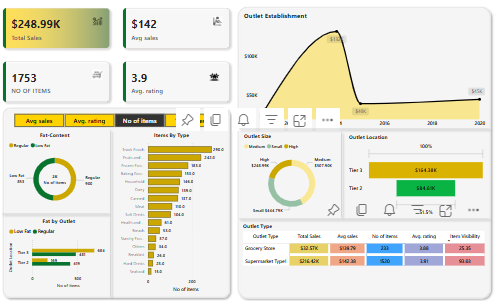

What the dashboard file says about the page in this screenshot:
{"tool":"powerbi","page":{"name":"Page 1","canvas":[1500,810],"ordinal":0},"visuals":[{"type":"shape","box":[28.3,26.7,211.7,753.3],"z":0},{"type":"textbox","box":[49.2,56.7,165.8,76.7],"z":1000},{"type":"textbox","box":[44.2,117.5,180,31.7],"z":2000},{"type":"cardVisual","fields":{"Data":["BlinkIT Grocery Data.TOTAL SALES","BlinkIT Grocery Data.AVG SALES","BlinkIT Grocery Data.NUMBER OF ITEMS","BlinkIT Grocery Data.AVERAGE RATING"]},"box":[231.8,26.4,602.7,271.8],"z":3000},{"type":"shape","box":[240,285.6,586.7,494.4],"z":4000},{"type":"slicer","fields":{"Values":["Metrics.Metrics"]},"box":[253.3,302.2,551.1,40],"z":5000},{"type":"donutChart","title":"Fat-Content","fields":{"Y":["BlinkIT Grocery Data.Avg sales"],"Category":["BlinkIT Grocery Data.Item Fat Content"]},"box":[260,352.2,238.9,196.7],"z":6000},{"type":"cardVisual","fields":{"Data":["BlinkIT Grocery Data.Avg sales"]},"box":[326.4,439.1,104.5,66.4],"z":7000},{"type":"clusteredBarChart","title":"Fat by Outlet","fields":{"Y":["BlinkIT Grocery Data.Avg sales"],"Category":["BlinkIT Grocery Data.Outlet Location Type"],"Series":["BlinkIT Grocery Data.Item Fat Content"]},"box":[260,567.8,258.9,184.4],"z":8000},{"type":"shape","box":[241.1,541.1,284.4,40],"z":9000},{"type":"shape","box":[472,342,93.3,432.7],"z":10000},{"type":"barChart","title":"Items By Type","fields":{"Y":["BlinkIT Grocery Data.Avg sales"],"Category":["BlinkIT Grocery Data.Item Type"]},"box":[526.4,351.8,288.2,408.2],"z":11000},{"type":"shape","box":[826.7,31.7,651.7,748.3],"z":12000},{"type":"lineChart","title":"Outlet Establishment","fields":{"Category":["BlinkIT Grocery Data.Outlet Establishment Year"],"Y":["BlinkIT Grocery Data.Total Sales"]},"box":[846.7,51.7,613.3,300],"z":13000},{"type":"donutChart","title":"Outlet Size","fields":{"Category":["BlinkIT Grocery Data.Outlet Size"],"Y":["BlinkIT Grocery Data.Total Sales"]},"box":[847.1,354.3,248.6,212.9],"z":14000},{"type":"shape","box":[832,327,642,40],"z":15000},{"type":"funnel","title":"Outlet Location","fields":{"Category":["BlinkIT Grocery Data.Outlet Location Type"],"Y":["BlinkIT Grocery Data.Total Sales"]},"box":[1110,357.1,350,214.3],"z":16000},{"type":"pivotTable","title":"Outlet Type","fields":{"Rows":["BlinkIT Grocery Data.Outlet Type"],"Values":["BlinkIT Grocery Data.Total Sales","BlinkIT Grocery Data.Avg sales","BlinkIT Grocery Data.No of items","BlinkIT Grocery Data.Avg. rating","Sum(BlinkIT Grocery Data.Item Visibility)"]},"box":[845.6,581.1,614.4,193.3],"z":17000},{"type":"shape","box":[832.2,553.3,642.2,40],"z":18000},{"type":"shape","box":[1049,348,93,229],"z":19000},{"type":"slicer","fields":{"Values":["BlinkIT Grocery Data.Outlet Location Type"]},"box":[48.6,272.9,171.4,70],"z":20000},{"type":"slicer","fields":{"Values":["BlinkIT Grocery Data.Outlet Size"]},"box":[45.7,364.3,171.4,70],"z":21000},{"type":"slicer","fields":{"Values":["BlinkIT Grocery Data.Item Type"]},"box":[45.7,455.7,171.4,70],"z":22000},{"type":"textbox","box":[21.4,238.6,225.7,34.3],"z":23000}]}

Visuals, with their boxes on the page's 1500x810 design canvas (x1, y1, x2, y2). These are canvas units, not pixel positions in the 495x301 screenshot, which may show the page scaled, cropped or inside an application window:
shape: 28/27/240/780
textbox: 49/57/215/133
textbox: 44/118/224/149
cardVisual - BlinkIT Grocery Data.TOTAL SALES x BlinkIT Grocery Data.AVG SALES: 232/26/834/298
shape: 240/286/827/780
slicer - Metrics.Metrics: 253/302/804/342
"Fat-Content" donutChart: 260/352/499/549
cardVisual - BlinkIT Grocery Data.Avg sales: 326/439/431/506
"Fat by Outlet" clusteredBarChart: 260/568/519/752
shape: 241/541/526/581
shape: 472/342/565/775
"Items By Type" barChart: 526/352/815/760
shape: 827/32/1478/780
"Outlet Establishment" lineChart: 847/52/1460/352
"Outlet Size" donutChart: 847/354/1096/567
shape: 832/327/1474/367
"Outlet Location" funnel: 1110/357/1460/571
"Outlet Type" pivotTable: 846/581/1460/774
shape: 832/553/1474/593
shape: 1049/348/1142/577
slicer - BlinkIT Grocery Data.Outlet Location Type: 49/273/220/343
slicer - BlinkIT Grocery Data.Outlet Size: 46/364/217/434
slicer - BlinkIT Grocery Data.Item Type: 46/456/217/526
textbox: 21/239/247/273
